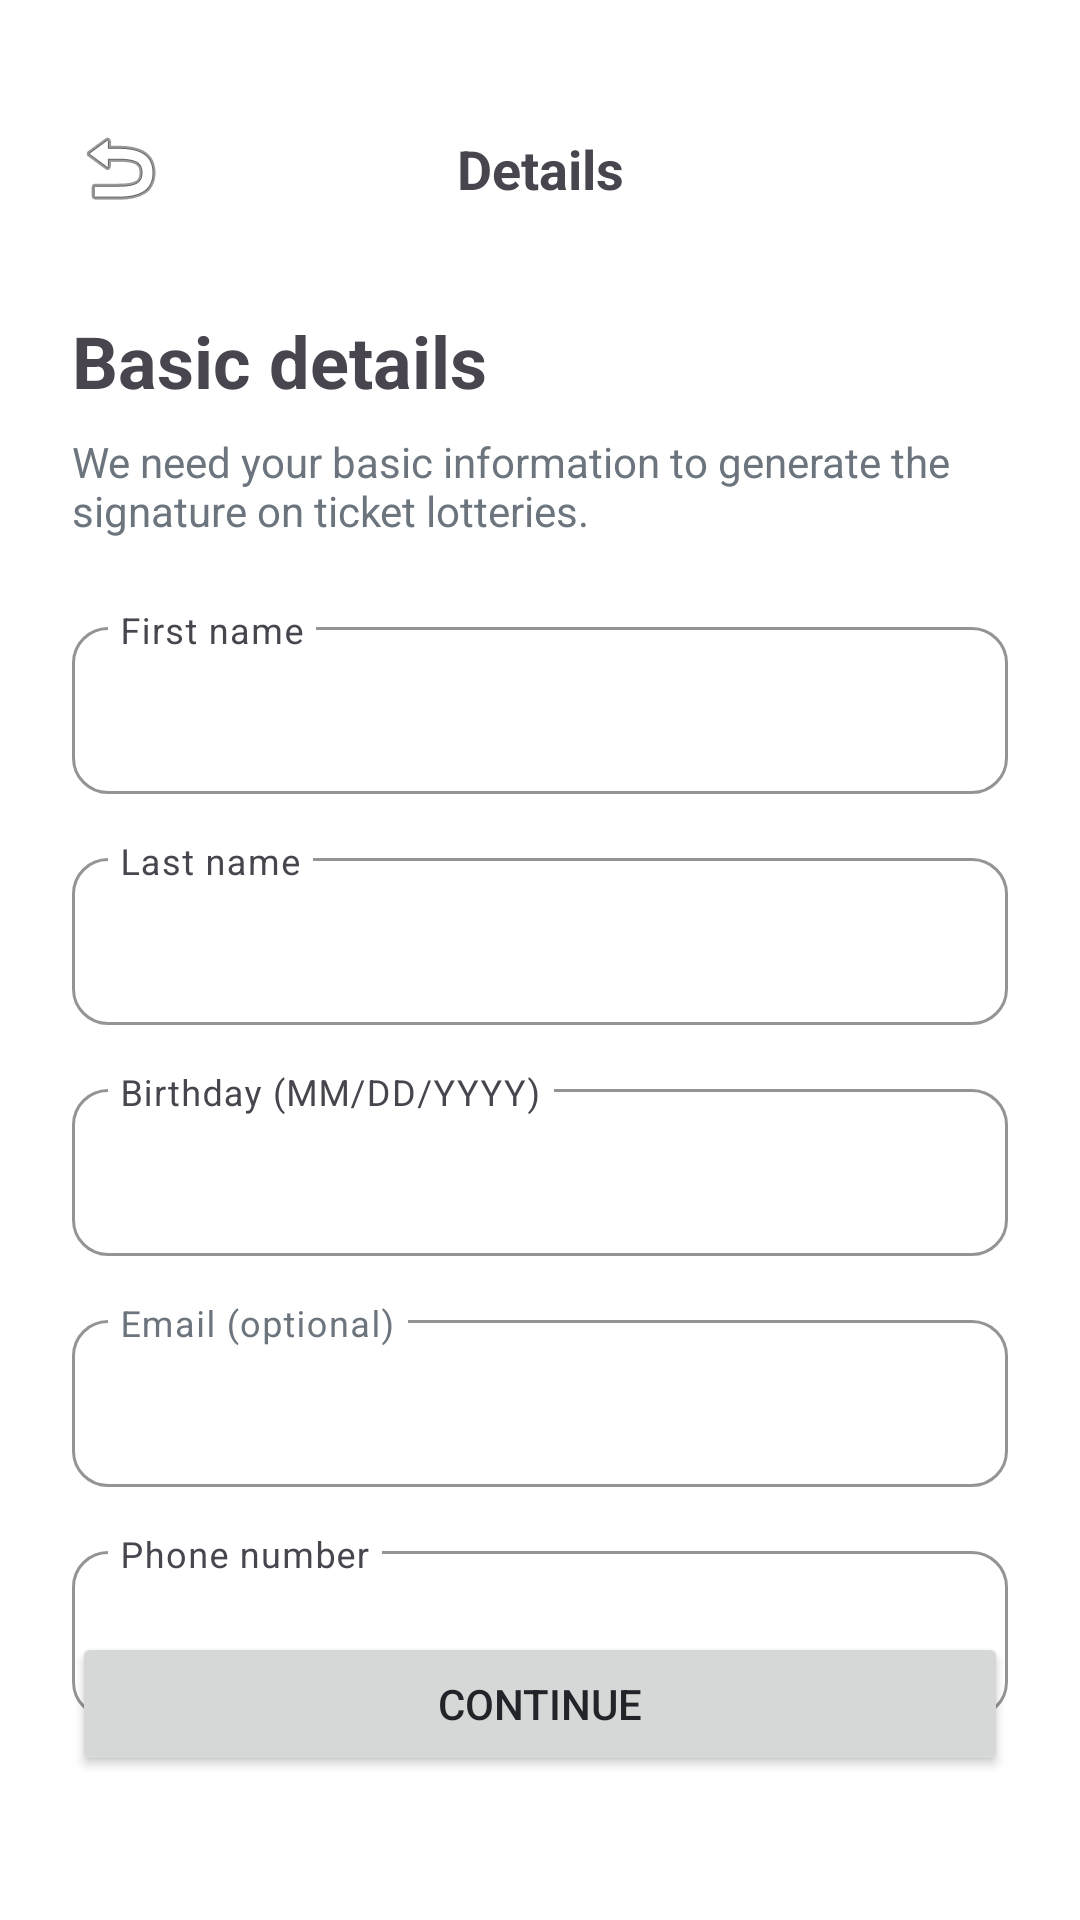

Where to tap for icons on this 1080px×1920px app screen, as (x,y):
revert: (121,168)
